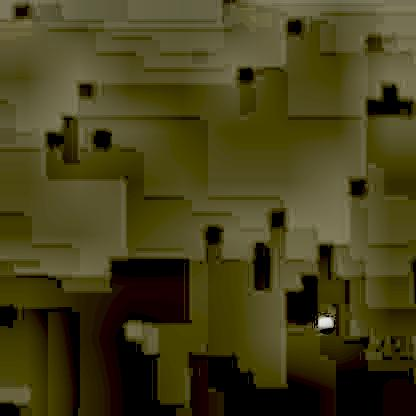golfball: (316, 314, 332, 328)
